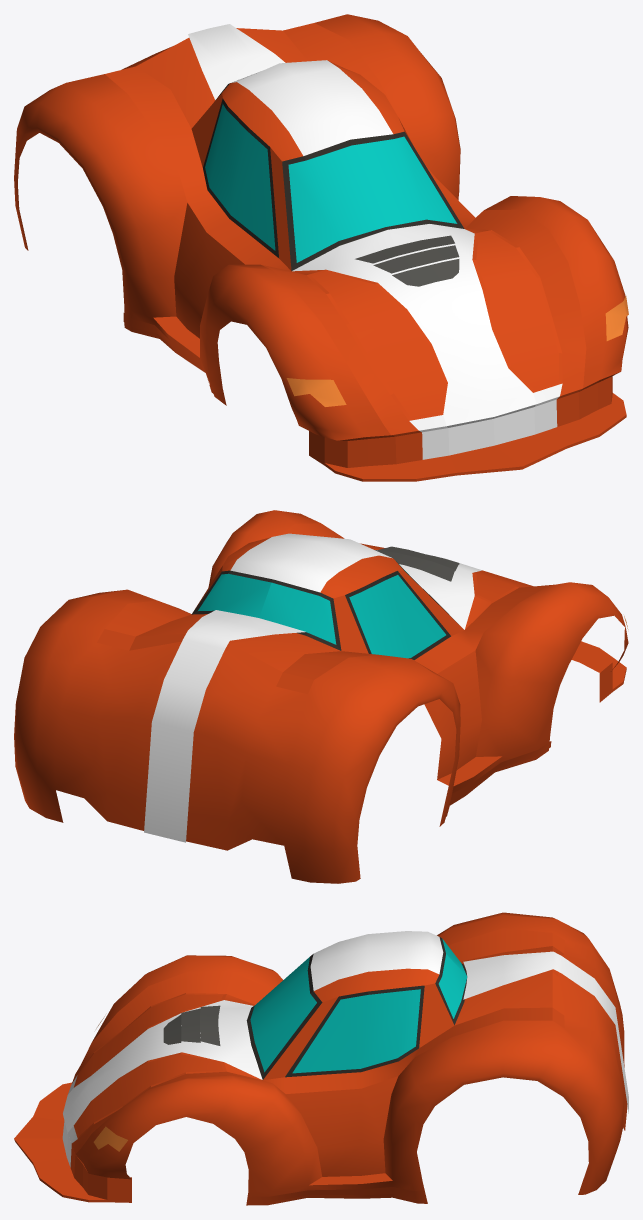
File: LuxCasing00R01.gltf
The picture shows the model from 3 angles, top to bottom: view 1: azimuth 30°, elevation 25°; view 2: azimuth 150°, elevation 25°; view 3: azimuth 270°, elevation 25°; orthographic projection. The views are drawn at different scales.
Visible parts, largest first — view 1: LuxCasing00R01; view 2: LuxCasing00R01; view 3: LuxCasing00R01.
Boxes of the visible parts, box(x1,y1,x2,y2) form: LuxCasing00R01: box(14, 14, 628, 481); LuxCasing00R01: box(14, 510, 628, 883); LuxCasing00R01: box(14, 912, 628, 1205).
Size of the model in its own units: 0.2129 by 0.129 by 0.366.
